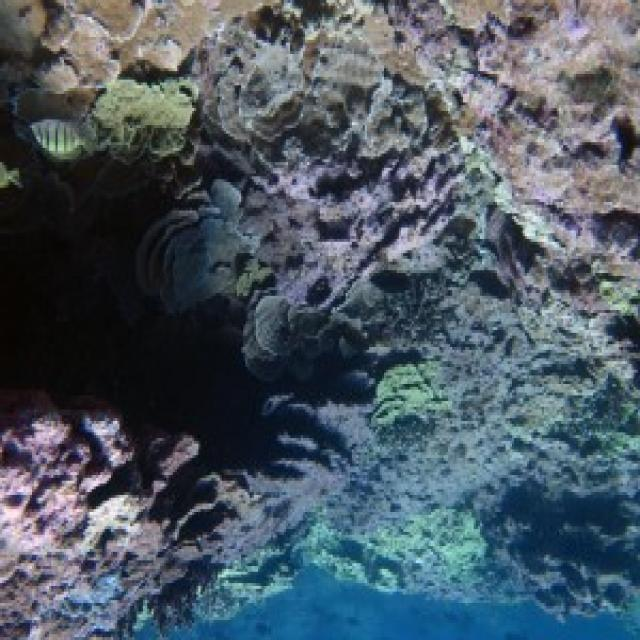Bleached: (1, 436, 125, 548)
Healthy: (240, 400, 443, 531), (473, 500, 640, 618)
